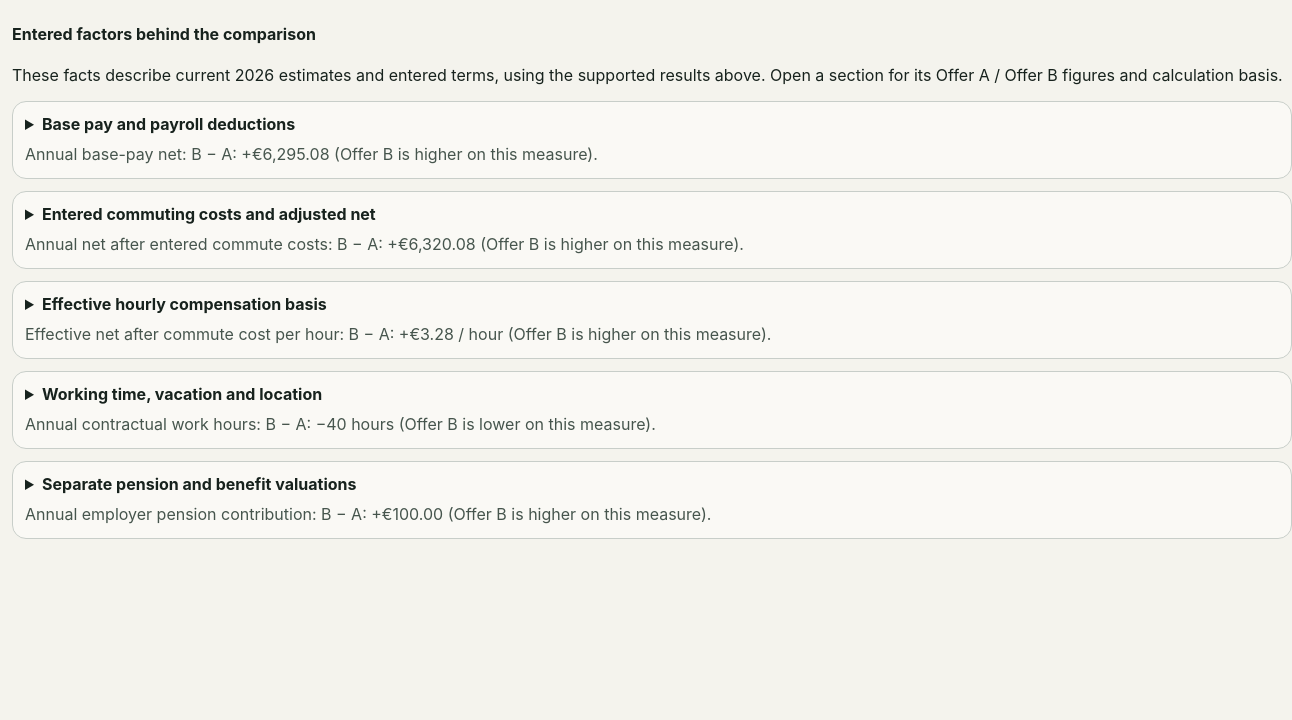
Scenario: shows a factual primary comparison for every group before details are opened
Check: the text "Annual base-pay net: B − A: +€6,295.08" is shown, box [25,144,598,164]
Check: the text "Annual net after entered commute costs: B − A: +€6,320.08" is shown, box [25,234,744,254]
Click the heading "Base pay and payroll deductions". click: {"x": 169, "y": 124}
box: [42,114,295,134]
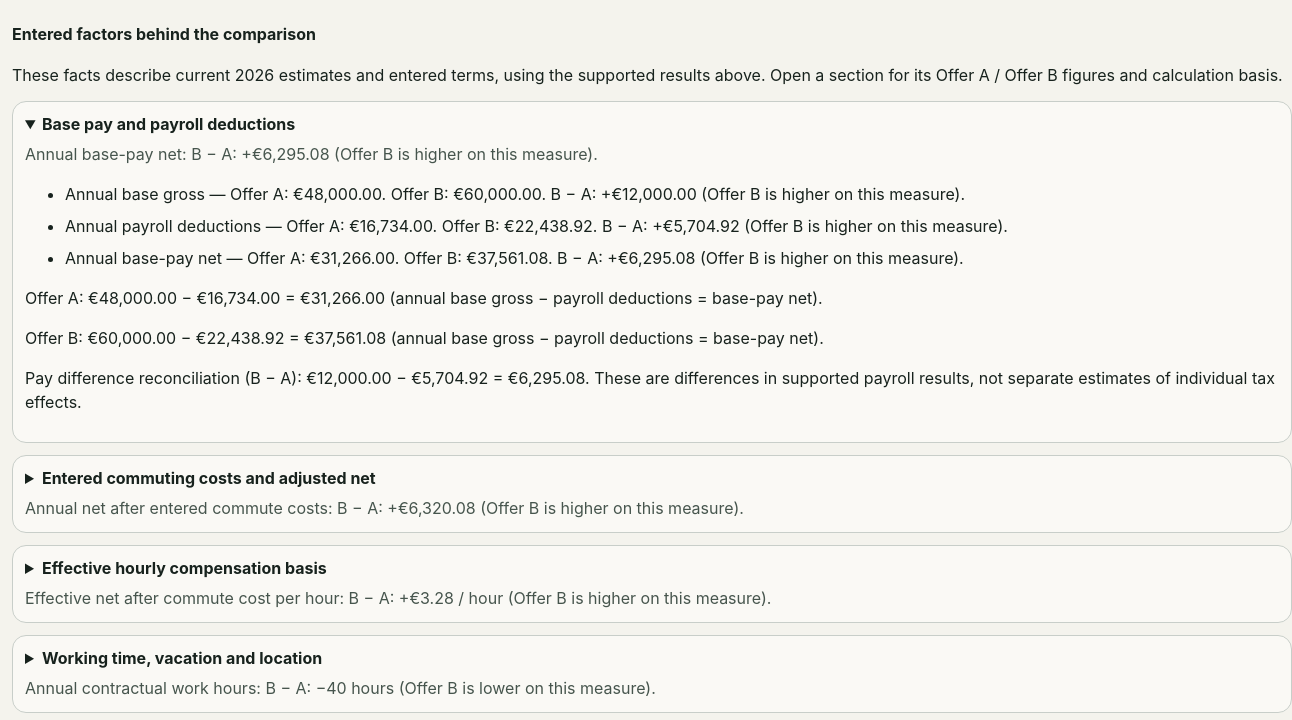
Check: the text "Offer A: €48,000.00 − €16,734.00 = €31,266.00" is shown, box [25,288,823,308]
